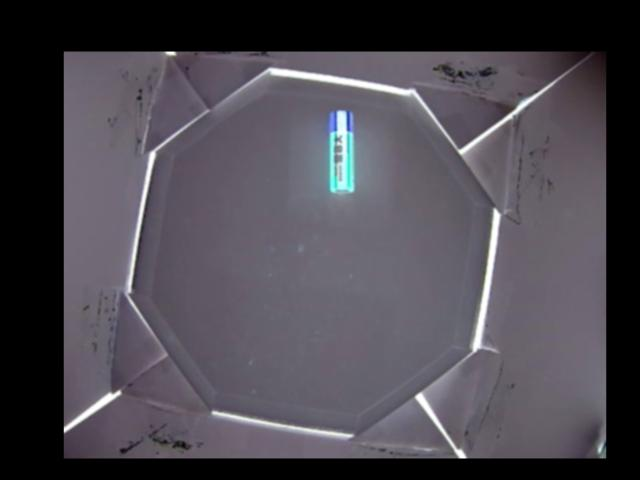Battery: (330, 109, 354, 193)
